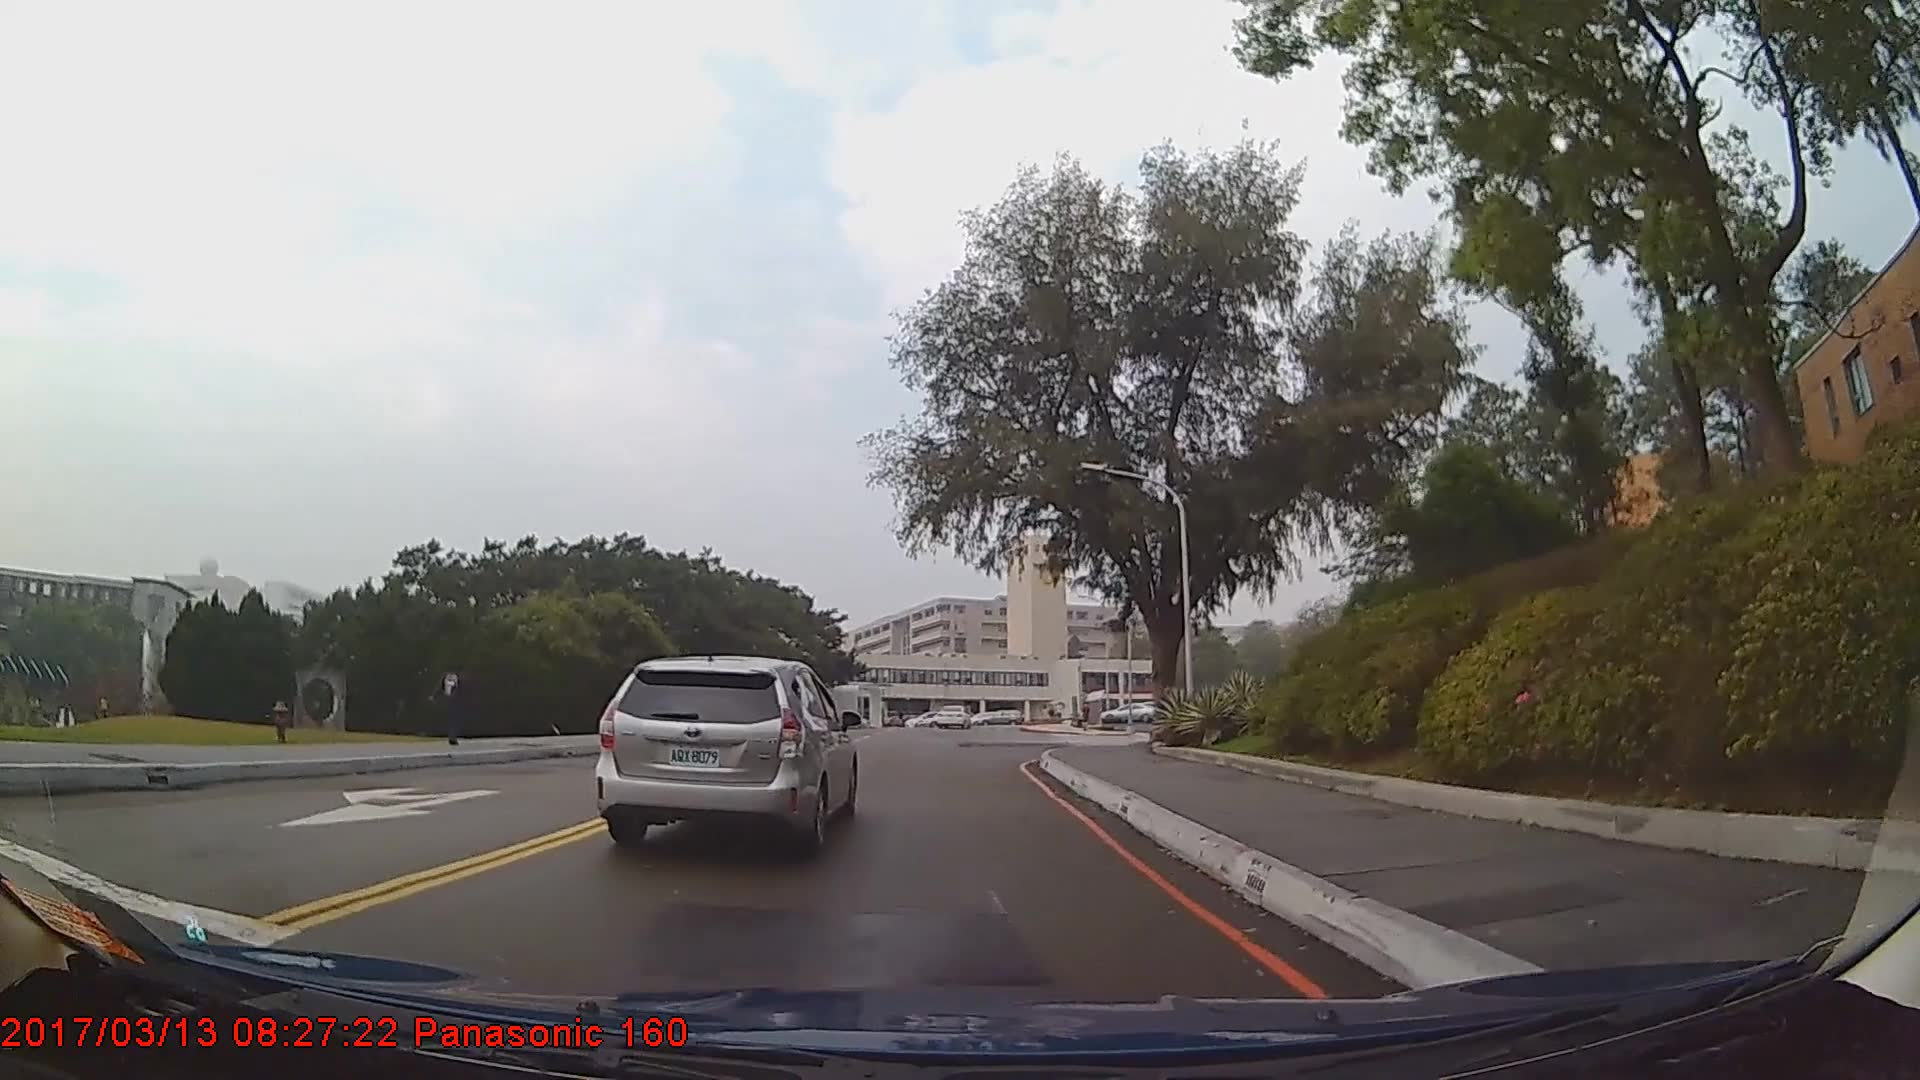pedestrian: (429, 655, 474, 754)
vehicle: (591, 655, 858, 855), (935, 702, 972, 729)
